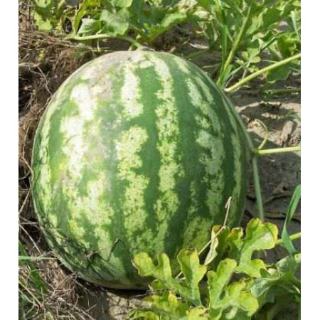dua_hau: (30, 46, 248, 291)
